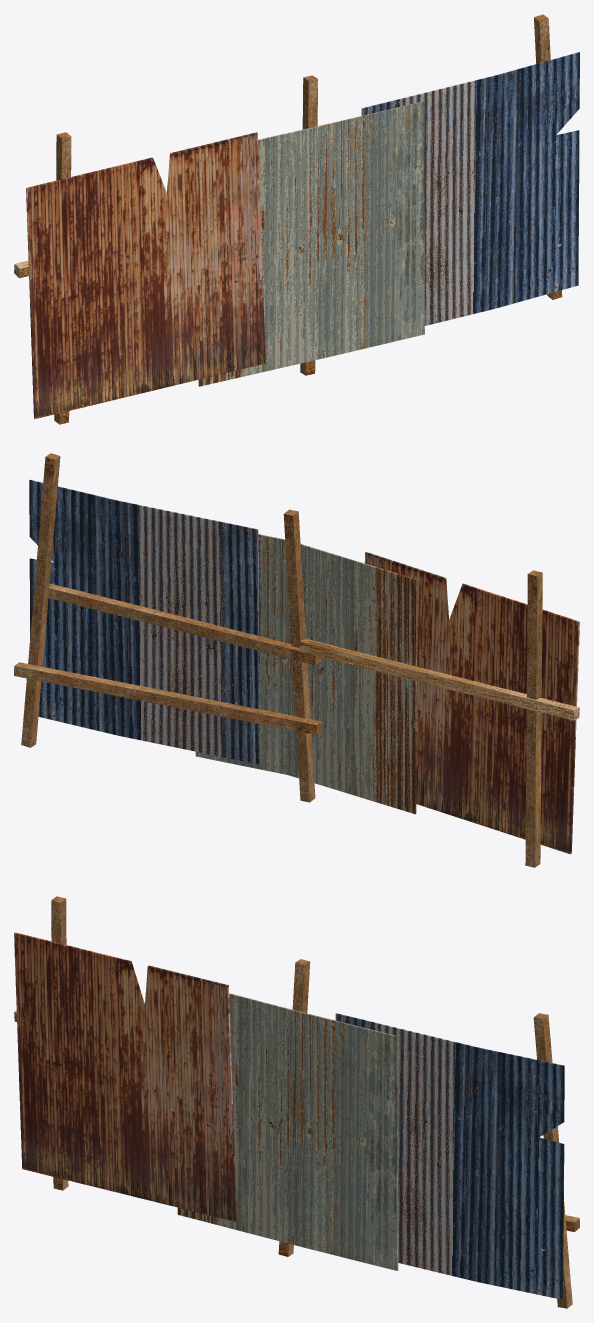
The model's file is Roof Fence v3.glb.
3 renders of one model, top to bottom at view 1: azimuth 30°, elevation 25°; view 2: azimuth 150°, elevation 25°; view 3: azimuth 330°, elevation 25°, orthographic.
Parts seen in each view (by area): view 1: Plane.001, Plane.002, Plane.004, Cube.010, Cube.003, Cube.002; view 2: Plane.004, Plane.001, Plane.002, Cube.005, Cube.003, Cube.002, Cube.004, Cube.001, Cube.010; view 3: Plane.001, Plane.004, Plane.002, Cube.002, Cube.010, Cube.003.
Boxes of the visible parts, x1,y1,x2,y2 form: Plane.001: [26, 132, 265, 418]; Plane.002: [198, 101, 424, 386]; Plane.004: [361, 52, 579, 325]; Cube.010: [300, 75, 317, 375]; Cube.003: [54, 132, 71, 424]; Cube.002: [534, 14, 562, 299]; Plane.004: [29, 480, 259, 764]; Plane.001: [364, 552, 579, 854]; Plane.002: [195, 534, 416, 814]; Cube.005: [14, 662, 321, 734]; Cube.003: [525, 570, 542, 867]; Cube.002: [21, 453, 60, 747]; Cube.004: [299, 638, 579, 720]; Cube.001: [48, 583, 320, 664]; Cube.010: [283, 509, 315, 802]; Plane.001: [14, 932, 236, 1221]; Plane.004: [335, 1013, 564, 1299]; Plane.002: [177, 993, 398, 1270]; Cube.002: [533, 1013, 572, 1308]; Cube.010: [278, 959, 310, 1256]; Cube.003: [51, 896, 68, 1190].
Bounding box in the file's own units: 7.02 × 3.51 × 0.6266.
9 materials, 9 textured.
